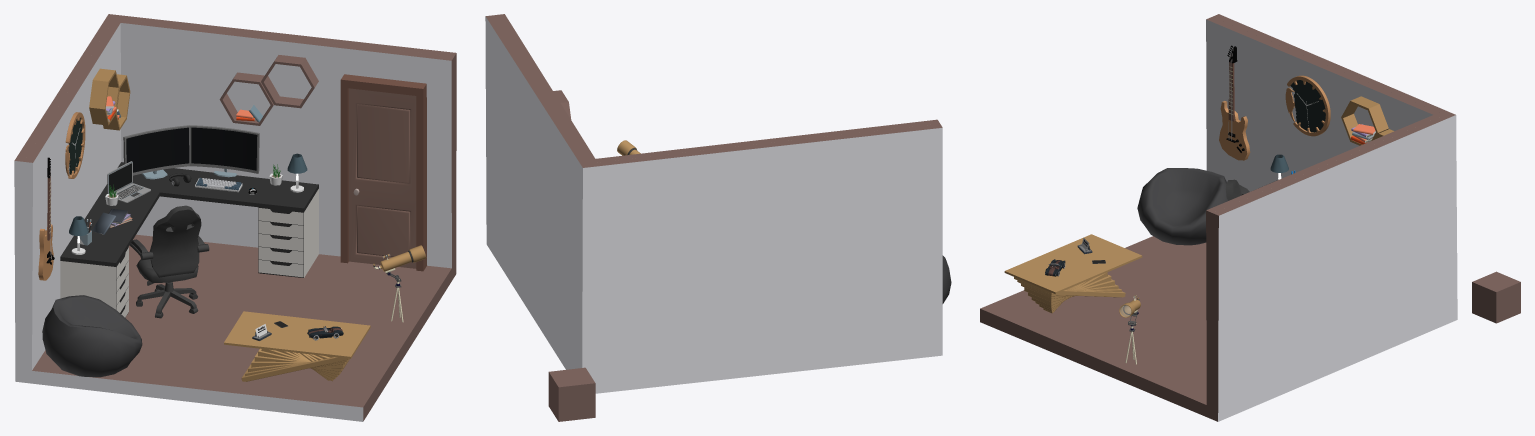
The model's file is Final Version 2.glb.
3 views of the same model, side by side, from view 1: azimuth 30°, elevation 25°; view 2: azimuth 150°, elevation 25°; view 3: azimuth 270°, elevation 25° (orthographic). The views are drawn at different scales.
Visible parts, largest first — view 1: Body, Door, Table main, Screens, Table, Cushion Bag, Office Chair, Shelves, Books, Clock, Guitar, Telescope (+2 smaller); view 2: Body, Cube; view 3: Body, Table, Cushion Bag, Clock, Cube, Guitar, Shelves, Telescope.
Boxes of the visible parts, x1,y1,x2,y2 form: Body: (14,14,456,421); Door: (340,74,426,271); Table main: (60,162,318,317); Screens: (107,125,259,202); Table: (224,311,370,381); Cushion Bag: (42,295,142,377); Office Chair: (129,205,209,318); Shelves: (89,55,318,130); Books: (92,96,262,234); Clock: (65,112,85,178); Guitar: (38,157,54,280); Telescope: (373,245,426,322); Body: (485,14,942,393); Cube: (548,367,595,421); Body: (980,14,1457,421); Table: (1004,234,1142,313); Cushion Bag: (1137,168,1228,245); Clock: (1285,75,1330,136); Cube: (1472,271,1520,323); Guitar: (1219,45,1250,160); Shelves: (1341,96,1393,145); Telescope: (1119,295,1140,364).
Size of the model in its own units: 4.78 by 2.29 by 5.41.
70 materials, 5 textured.
